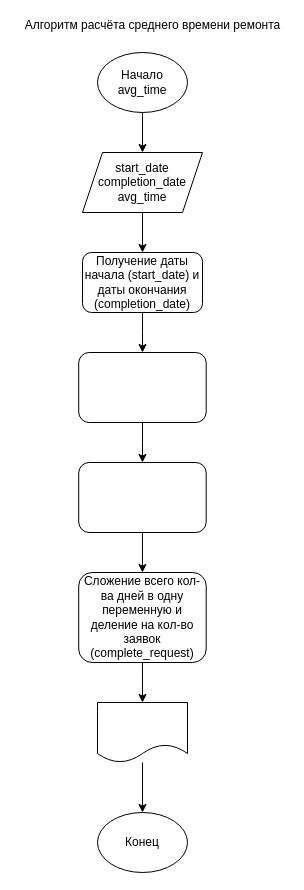
This 304x890 diagram has some shape labels left out. The shapes that lost their labels are listed below. From the top down, each one's centre as x and y in pixels, then its label:
(142,387): Получение кол-ва завершённых заявок (complete_request)
(142,497): Получение кол-ва дней между датами по каждой заявке (complete_request)
(142,732): avg_time
